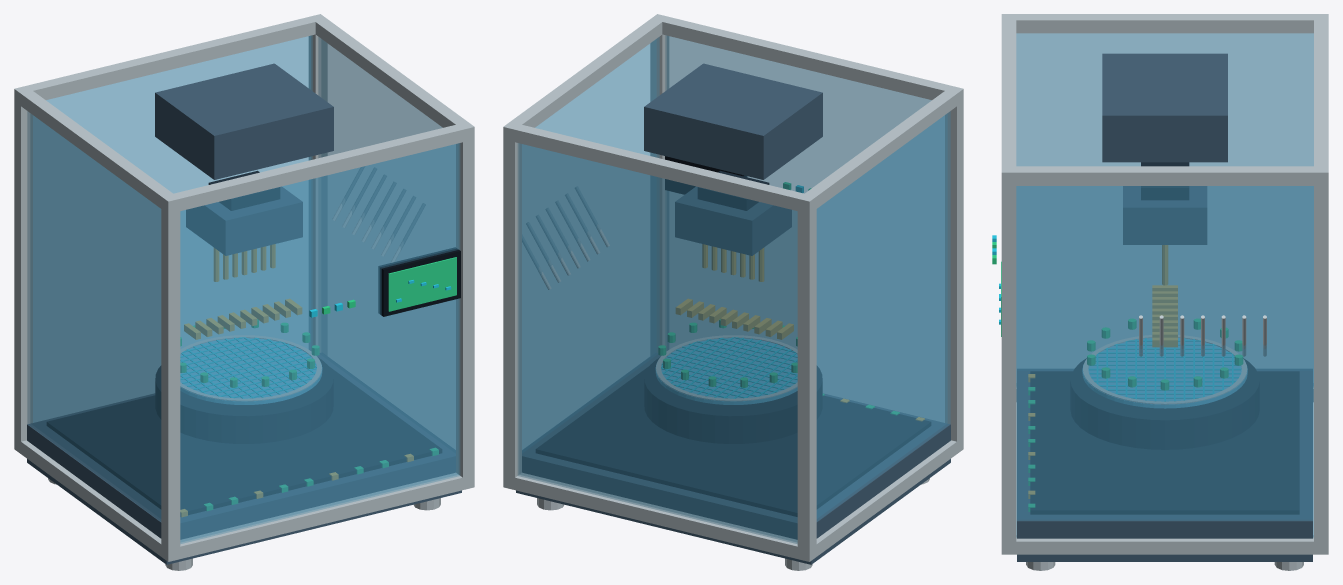
File: 51_L79_BondAdhesionWitnessCouponTester.fbx
The picture shows the model from 3 angles, left to right: view 1: azimuth 30°, elevation 25°; view 2: azimuth 150°, elevation 25°; view 3: azimuth 270°, elevation 25°; orthographic projection. The views are drawn at different scales.
Parts seen in each view (by area): view 1: BondAdhesionWitnessCouponTester, BondAdhesionWitnessCouponTester_Part_0105, BondAdhesionWitnessCouponTester_Part_0113; view 2: BondAdhesionWitnessCouponTester, BondAdhesionWitnessCouponTester_Part_0105, BondAdhesionWitnessCouponTester_Part_0113; view 3: BondAdhesionWitnessCouponTester, BondAdhesionWitnessCouponTester_Part_0105, BondAdhesionWitnessCouponTester_Part_0113.
Boxes of the visible parts, bbox=[...] form: BondAdhesionWitnessCouponTester: bbox=[14, 14, 474, 570]; BondAdhesionWitnessCouponTester_Part_0105: bbox=[186, 186, 302, 255]; BondAdhesionWitnessCouponTester_Part_0113: bbox=[208, 170, 279, 210]; BondAdhesionWitnessCouponTester: bbox=[503, 14, 963, 570]; BondAdhesionWitnessCouponTester_Part_0105: bbox=[675, 186, 791, 255]; BondAdhesionWitnessCouponTester_Part_0113: bbox=[698, 170, 769, 210]; BondAdhesionWitnessCouponTester: bbox=[992, 14, 1328, 570]; BondAdhesionWitnessCouponTester_Part_0105: bbox=[1123, 186, 1206, 244]; BondAdhesionWitnessCouponTester_Part_0113: bbox=[1141, 162, 1189, 199].
Bounding box in the file's own units: 230 × 267 × 195.
